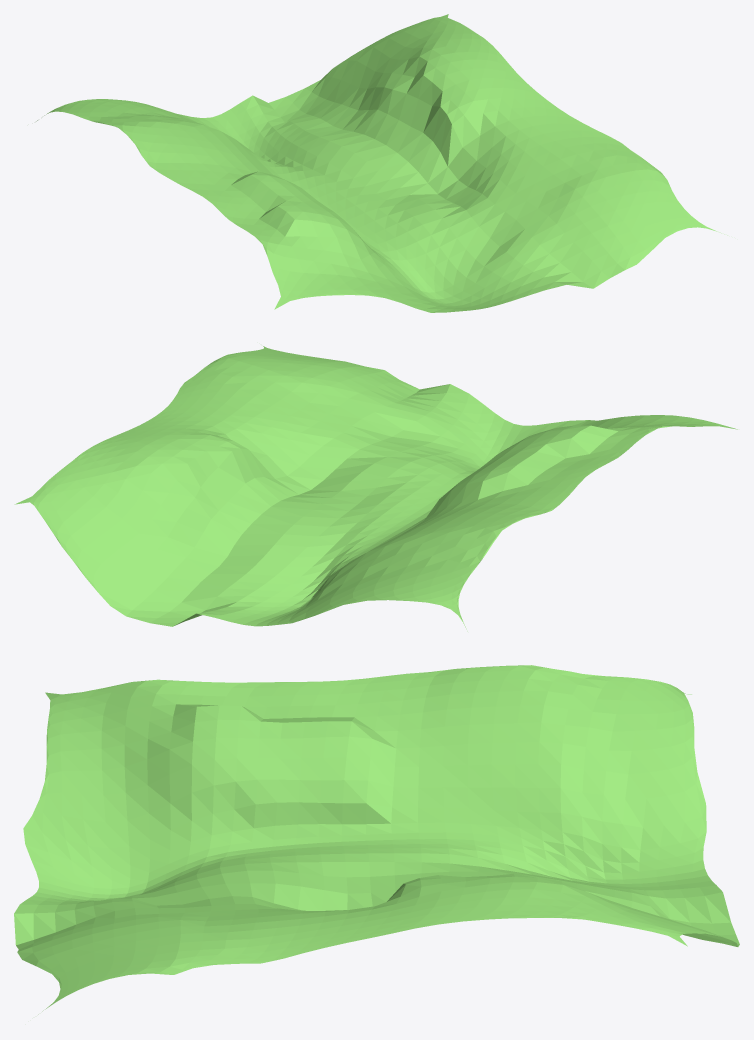
The model's file is FirstTerrain.fbx.
The picture shows the model from 3 angles, top to bottom: view 1: azimuth 30°, elevation 25°; view 2: azimuth 150°, elevation 25°; view 3: azimuth 270°, elevation 25°; orthographic projection. The views are drawn at different scales.
Parts seen in each view (by area): view 1: Plane; view 2: Plane; view 3: Plane.
Part boxes in pixels (<box>): Plane: <box>36,14,727,312</box>; Plane: <box>14,346,737,631</box>; Plane: <box>14,665,739,1014</box>.
Bounding box in the file's own units: 1848 × 372 × 1949.
